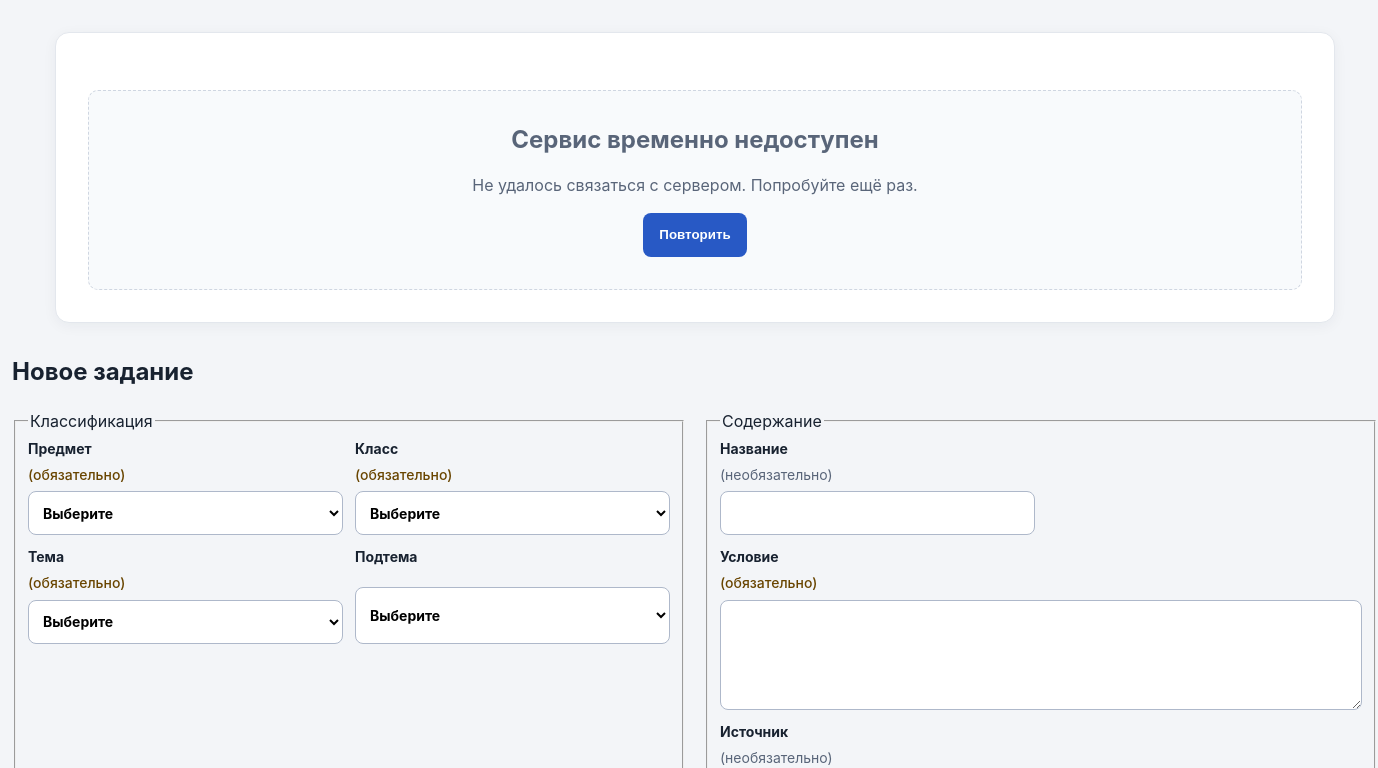
creates only after an empty duplicate check, in strict request order
The width and height of the screenshot is (1378, 768).
Step 1. Select "Math" in the dropdown labelled "Предмет (обязательно)" → (186, 513), box [28,491,343,535]
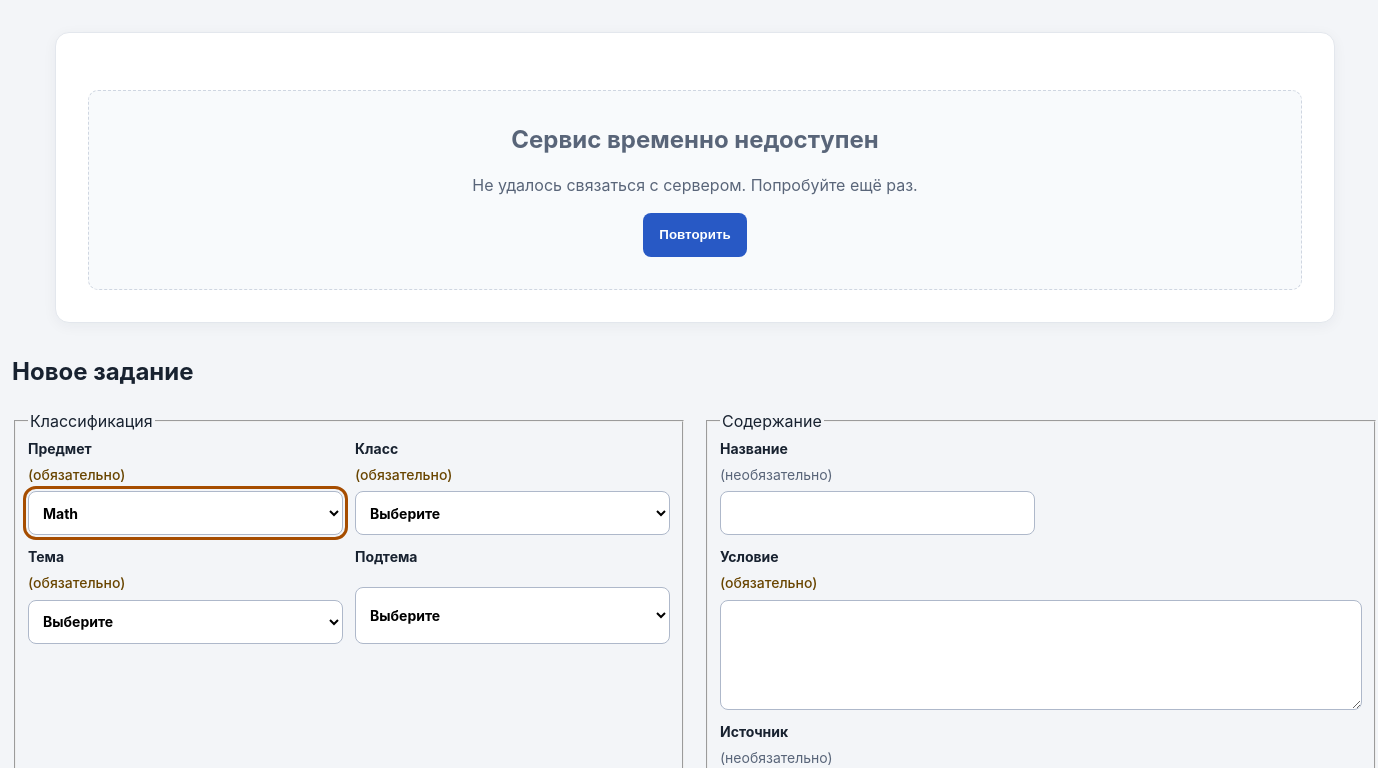
Step 2. Select "7" in the dropdown labelled "Класс (обязательно)" → (512, 513), box [355,491,670,535]
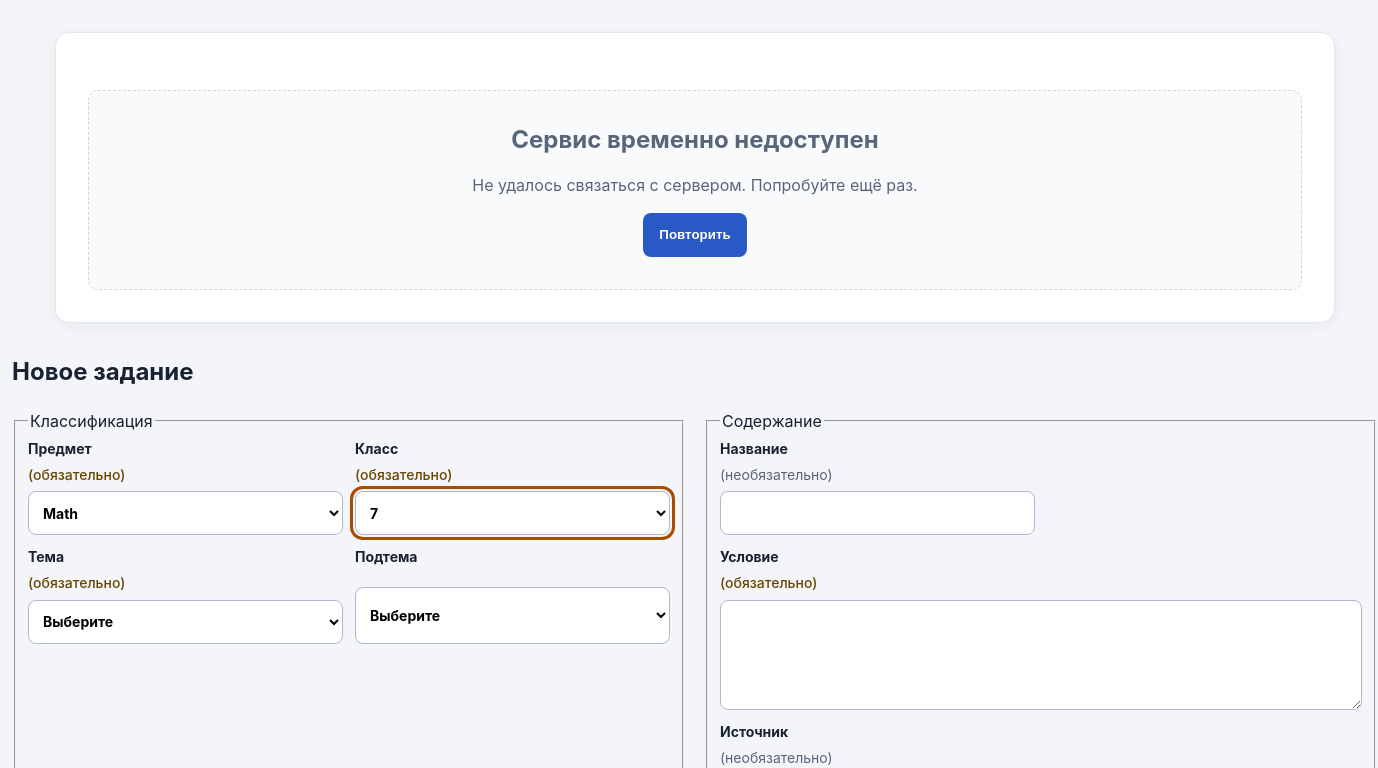
Step 3. Select "Motion" in the dropdown labelled "Тема (обязательно)" → (186, 622), box [28,600,343,644]
(page scrolled)
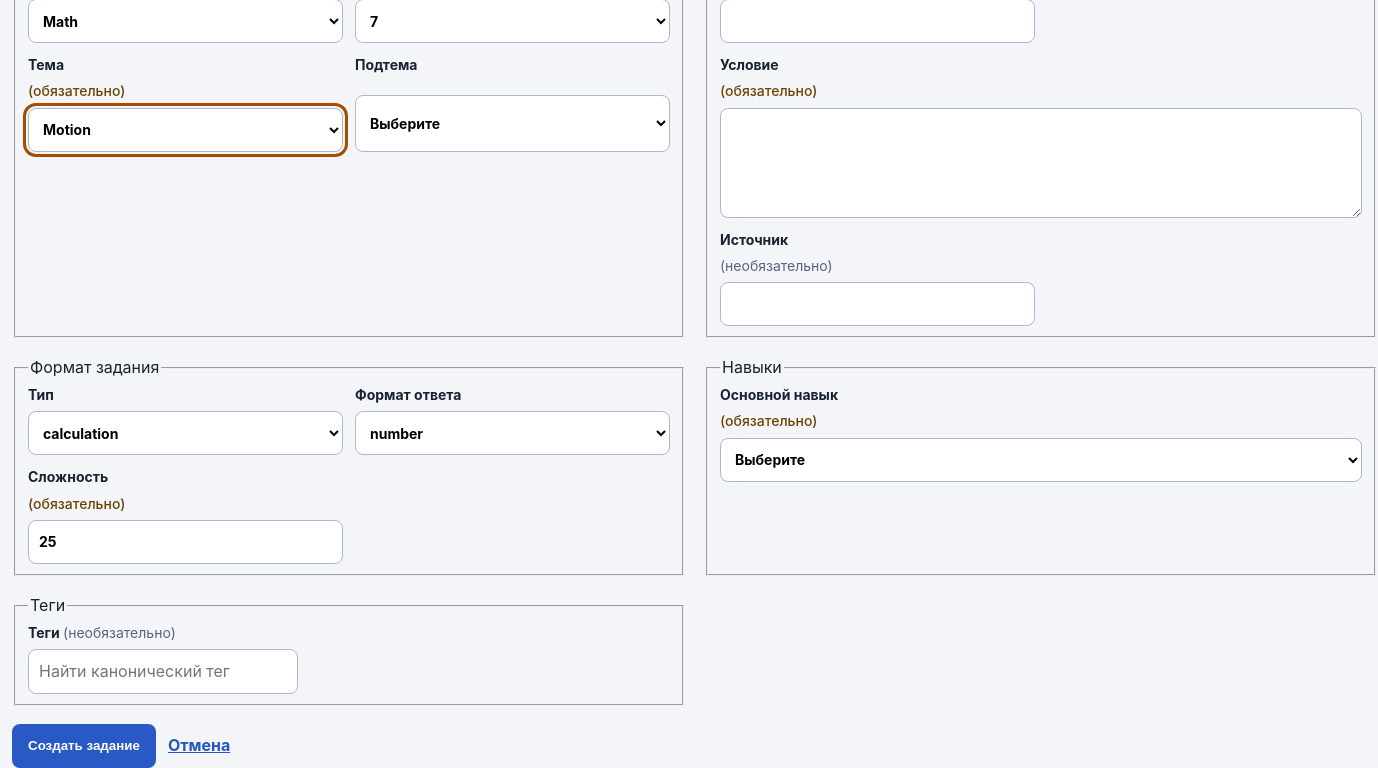
Step 4. Select "Solve" in the dropdown labelled "Основной навык (обязательно)" → (1041, 460), box [720,438,1362,482]
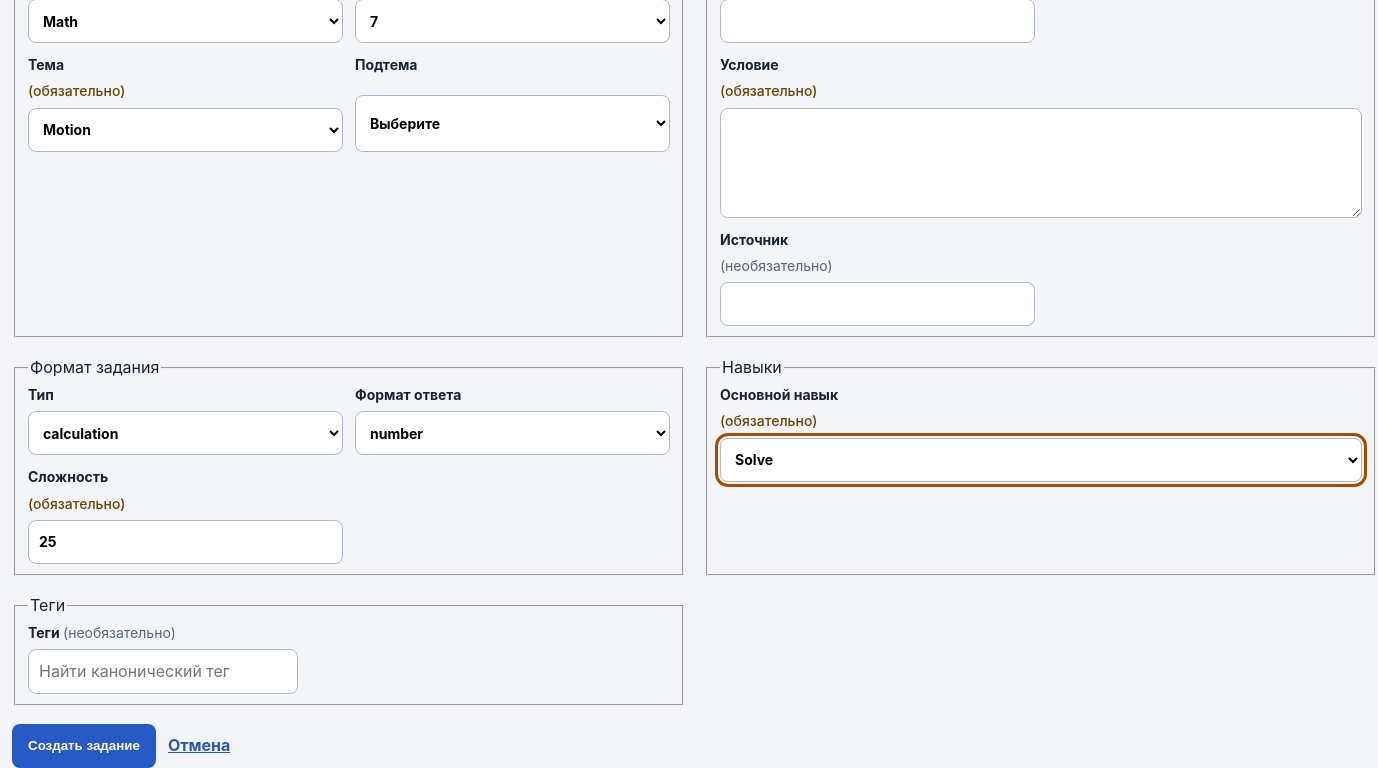
Step 5. Type "Find x" into the text box labelled "Условие (обязательно)" → (1041, 163), box [720,108,1362,218]
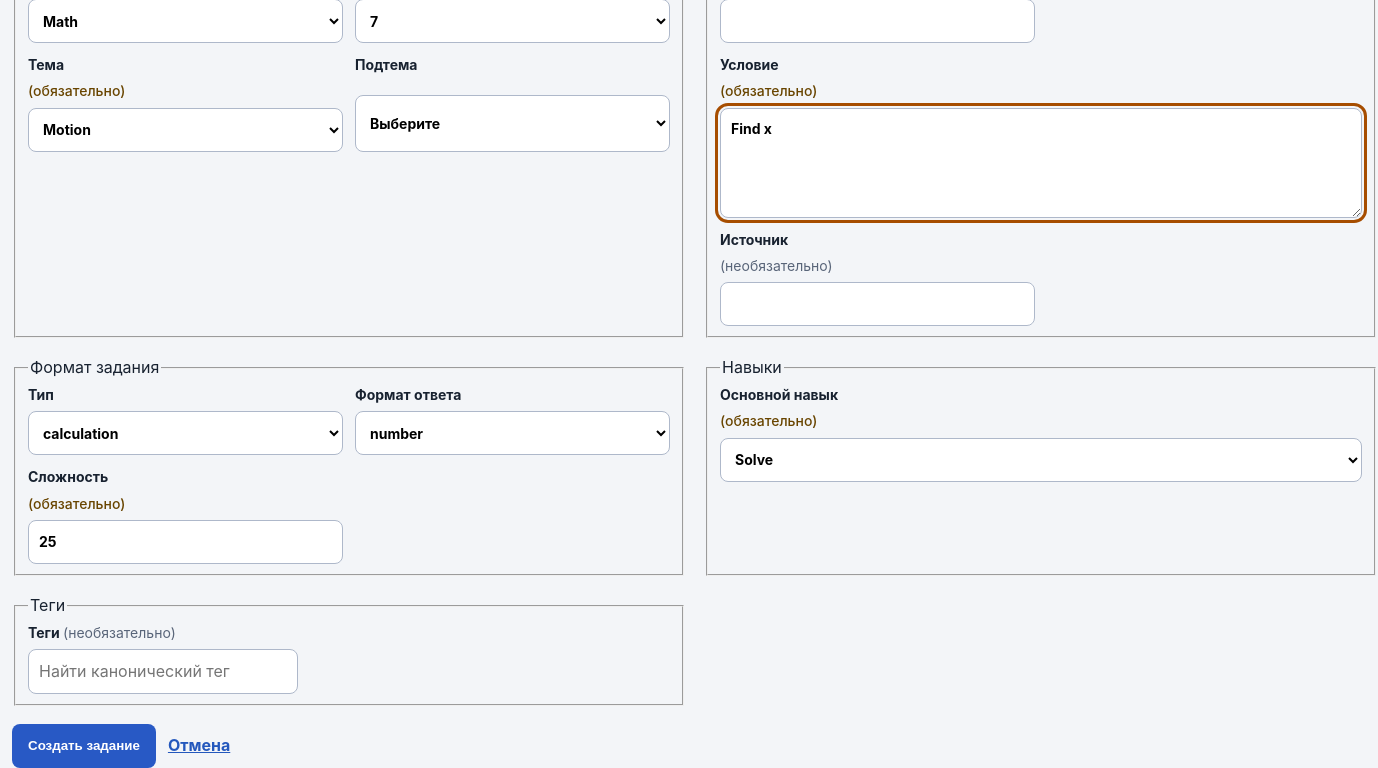
Step 6. Click the button "Создать задание" → (84, 746), box [12,724,156,767]
(page scrolled)
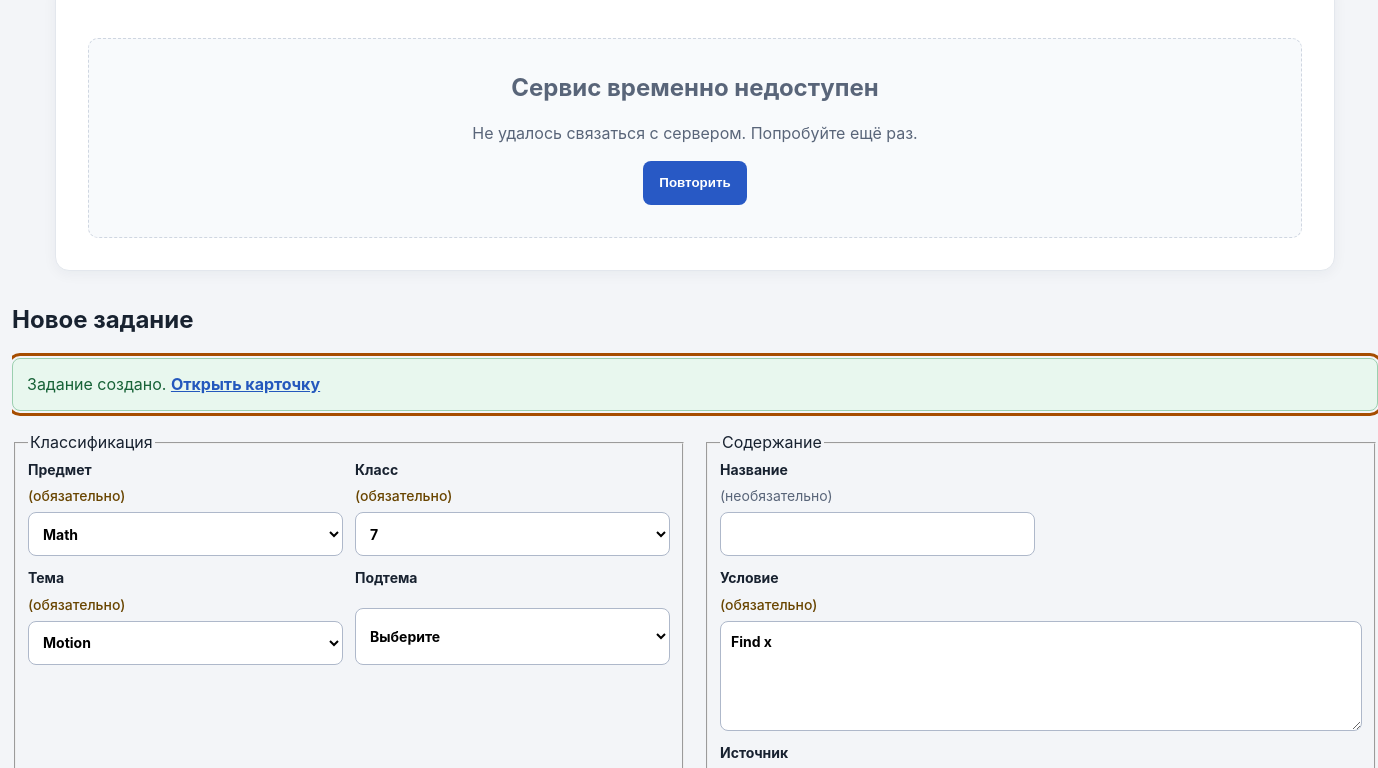
Expected: the message "Задание создано. Открыть карточку" is shown, [12,358,1377,411]
